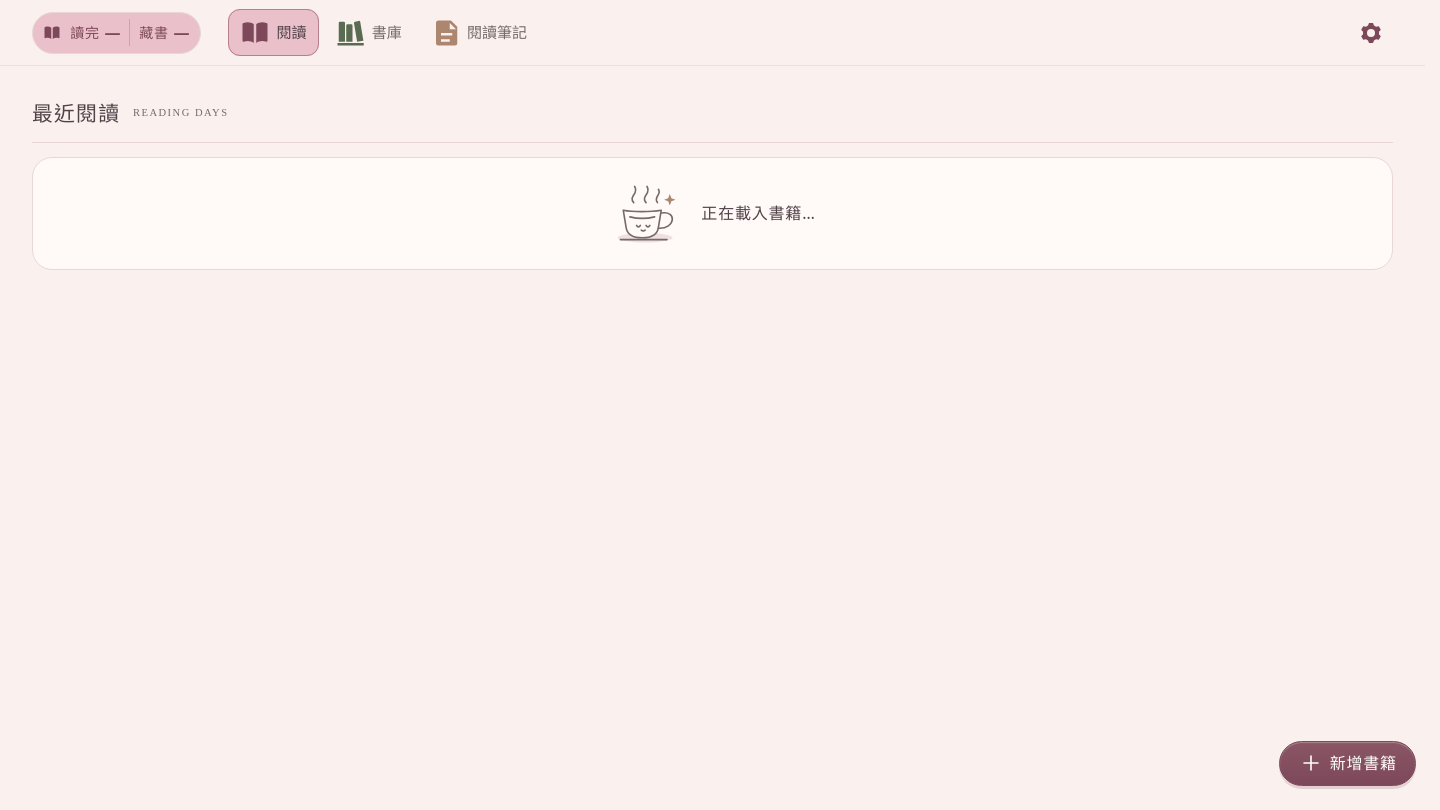
App reading entry regression › requires confirmation when rating is the only unsaved change
Click the button "書庫" at point(369, 33), box [323,9,414,56]
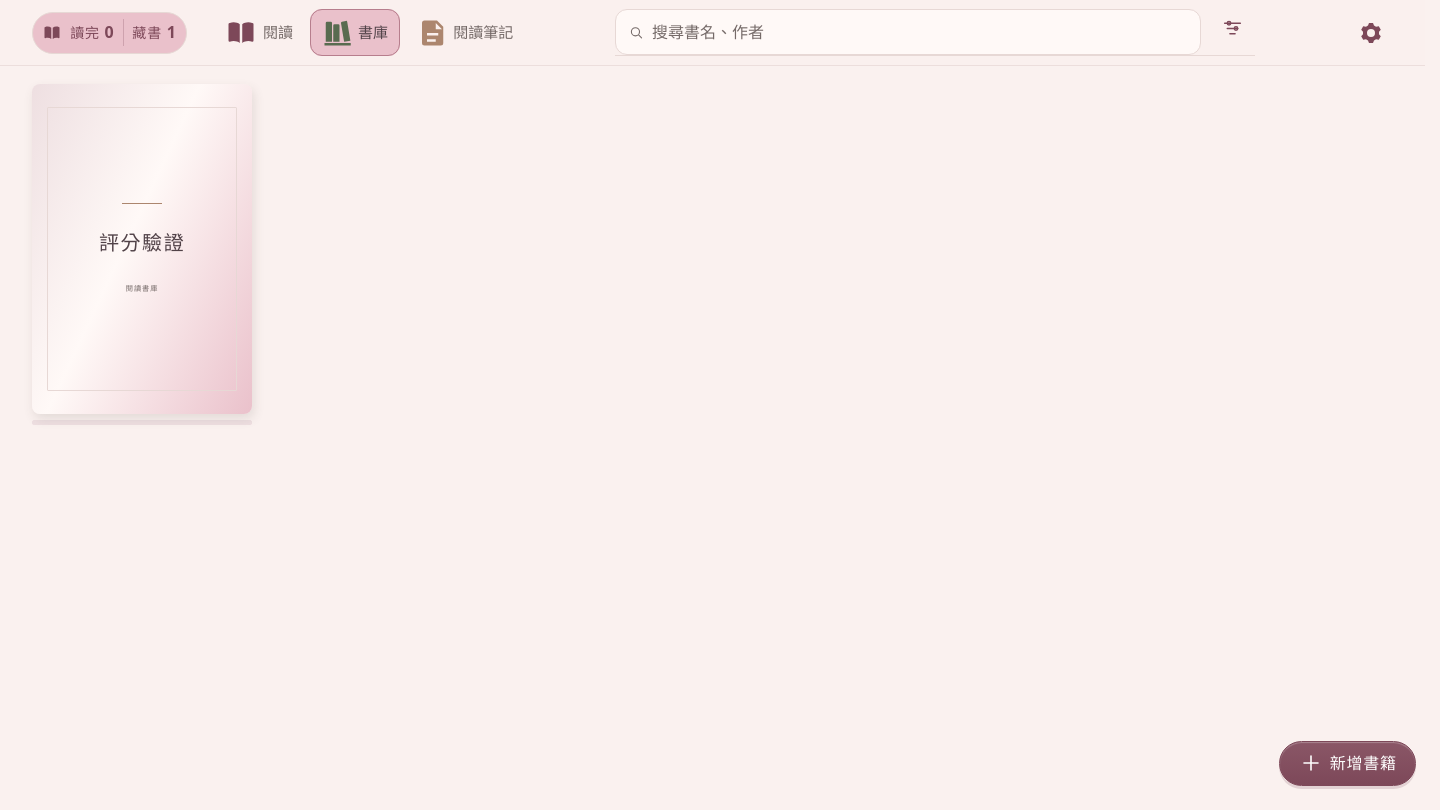
Click the button with aria-label "開啟《" at point(142, 249), box [32,84,252,414]
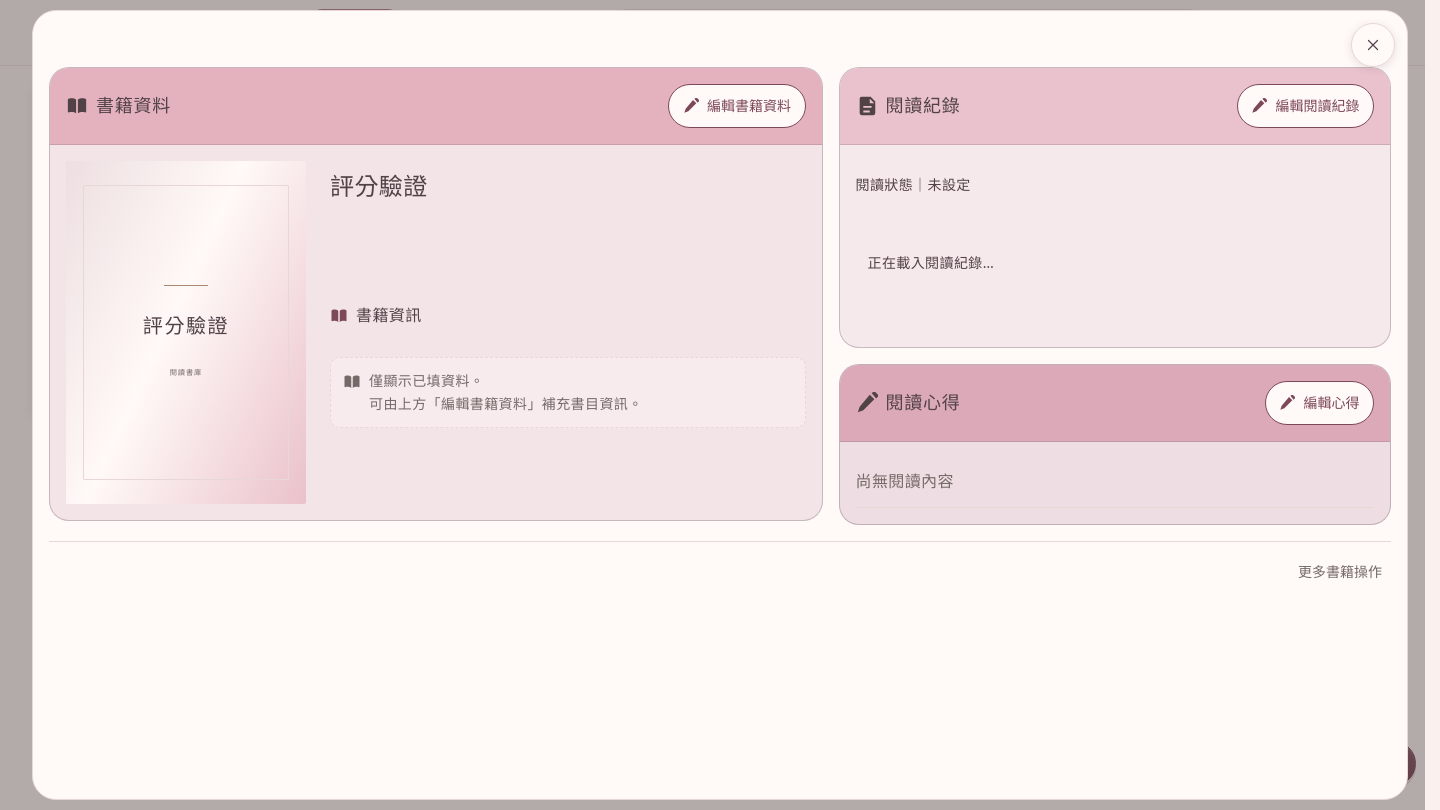
Click the button "編輯書籍資料" at point(737, 106), box [668,84,806,128]
(page scrolled)
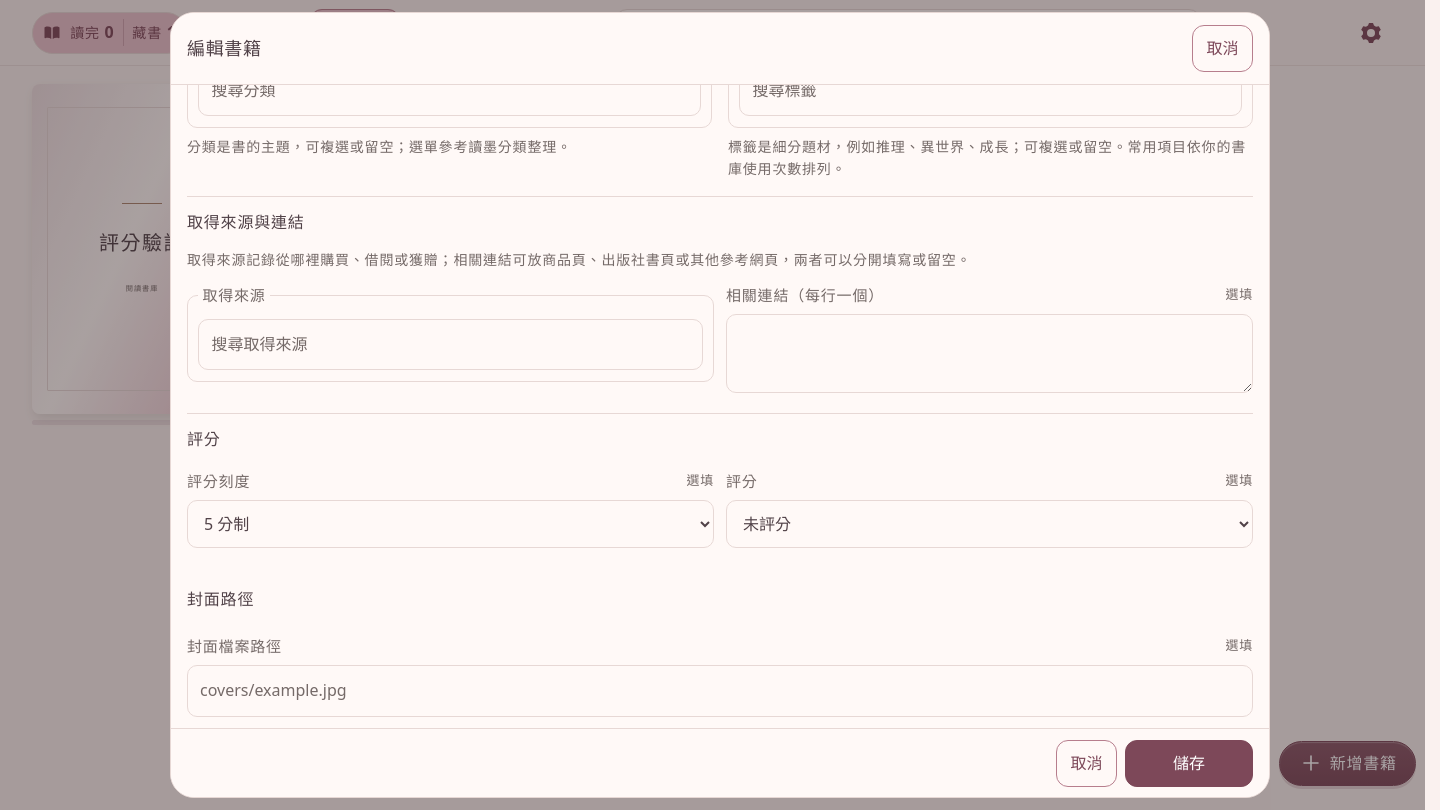
Select "4 分" in the dropdown labelled "評分" at point(990, 524), box [726,500,1253,548]
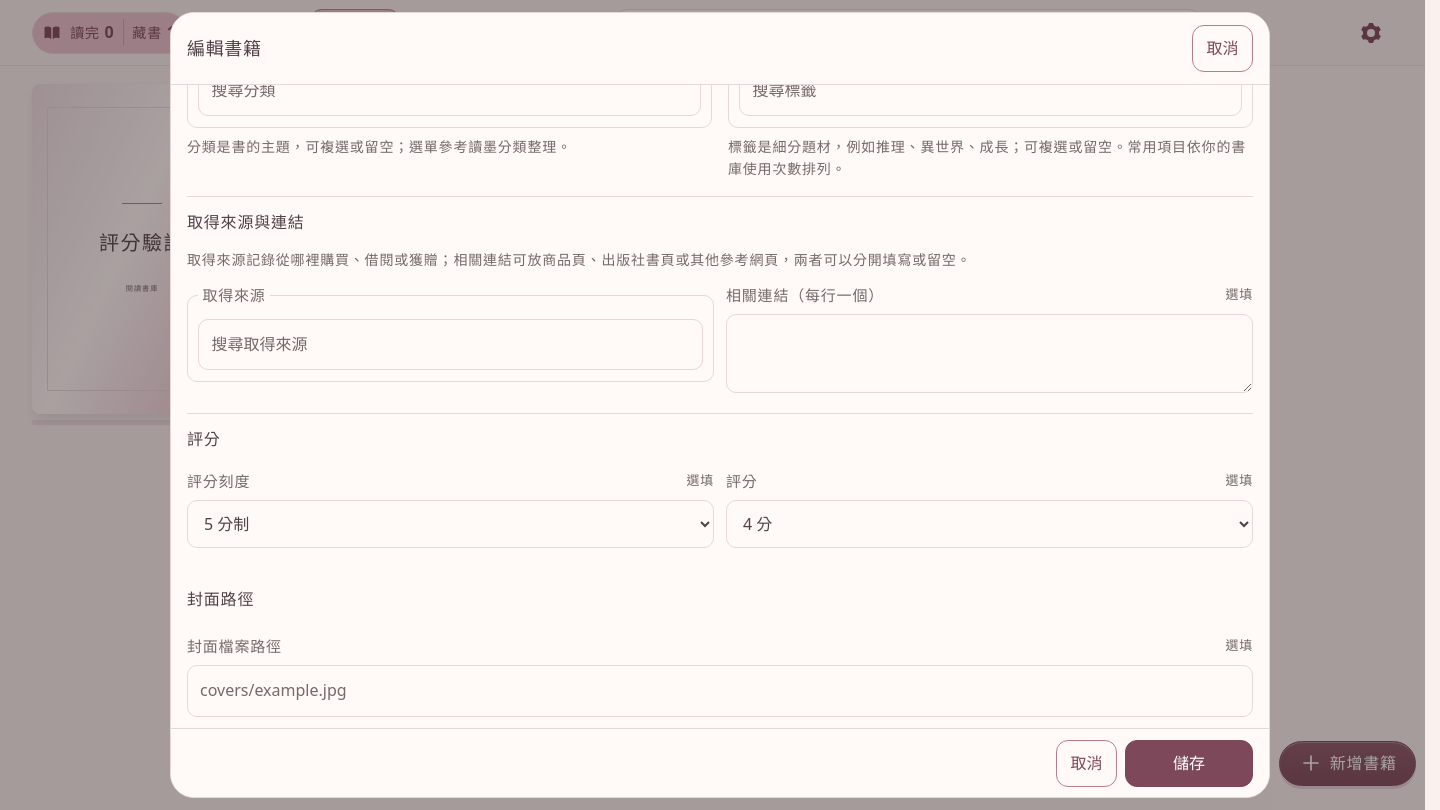
Press Escape in the form with class "book-form"
Check: the form with class "book-form" is shown
Check: the dialog is shown
Click the 2nd button "取消" at point(1086, 763), box [1056,740,1117,787]
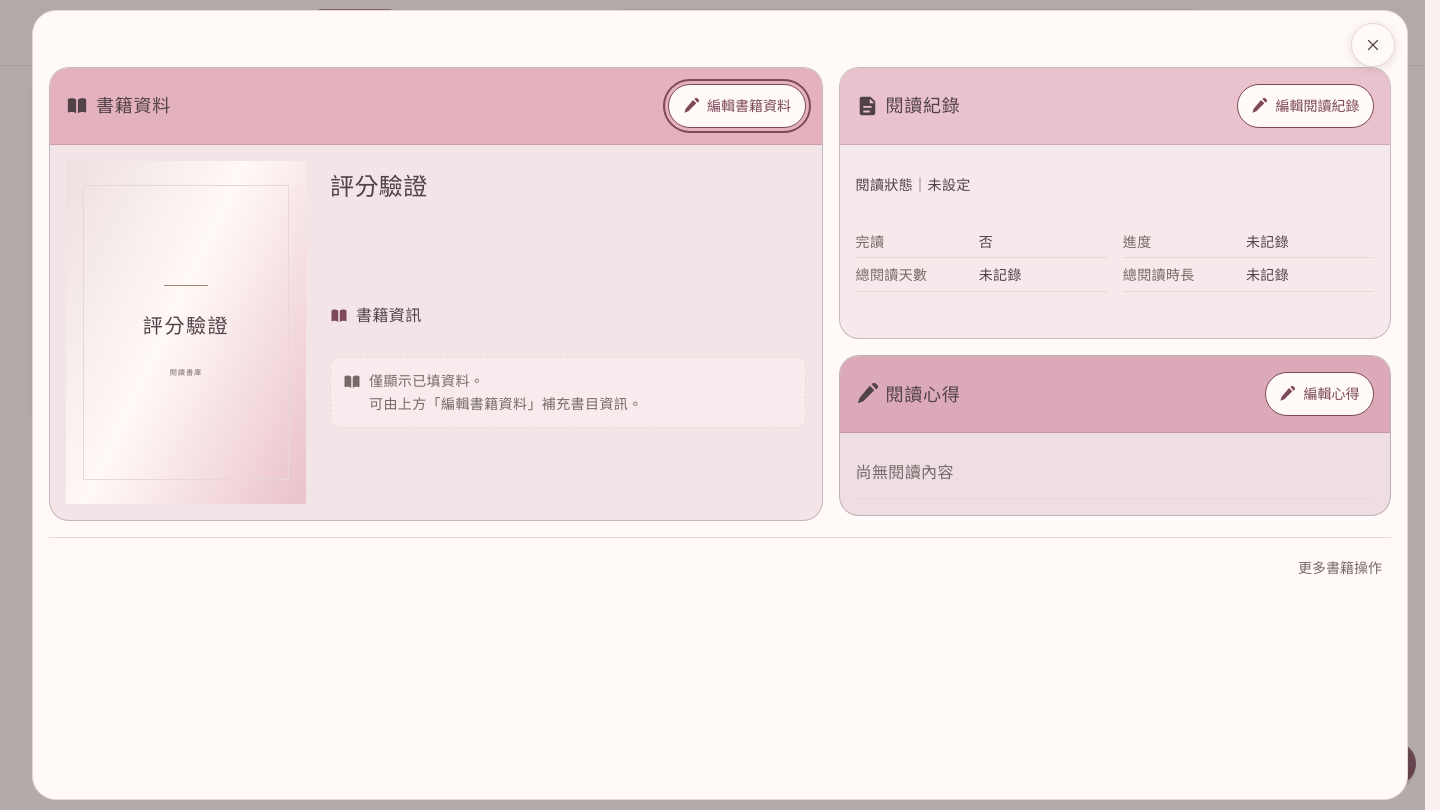
Check: the form with class "book-form" is gone
